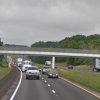Bridge: (4, 35, 97, 68)
